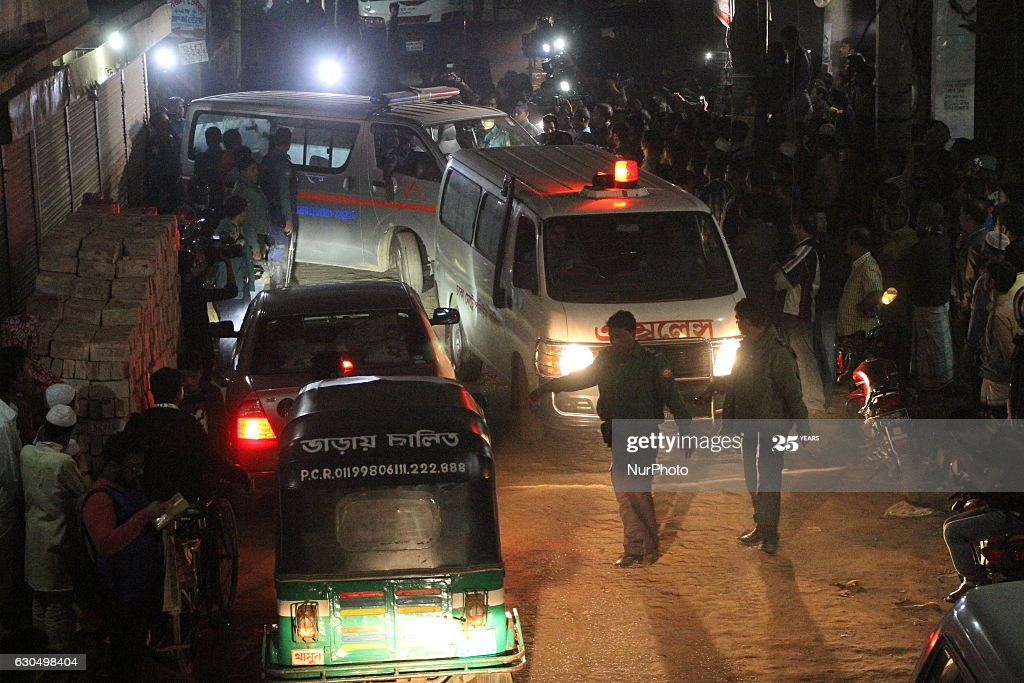ambulance: (434, 141, 751, 438), (179, 85, 544, 296)
bicycle: (141, 480, 242, 664)
car: (212, 279, 457, 470)
motorbike: (827, 282, 927, 507)
three wheelers (CNG): (258, 374, 526, 683)
